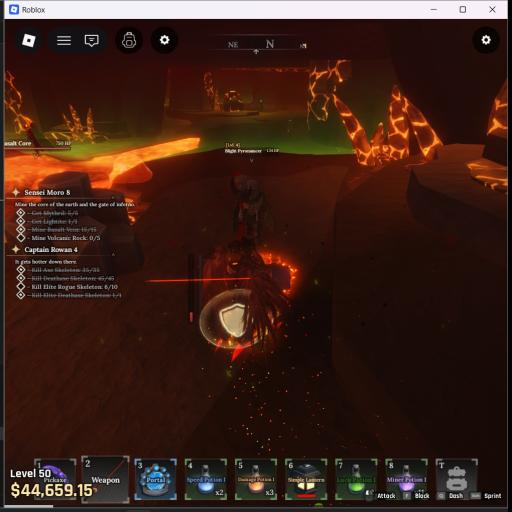player: (202, 237, 287, 352)
rock: (16, 171, 144, 276), (223, 92, 243, 111)
